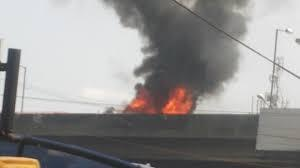fire: (120, 84, 195, 115)
